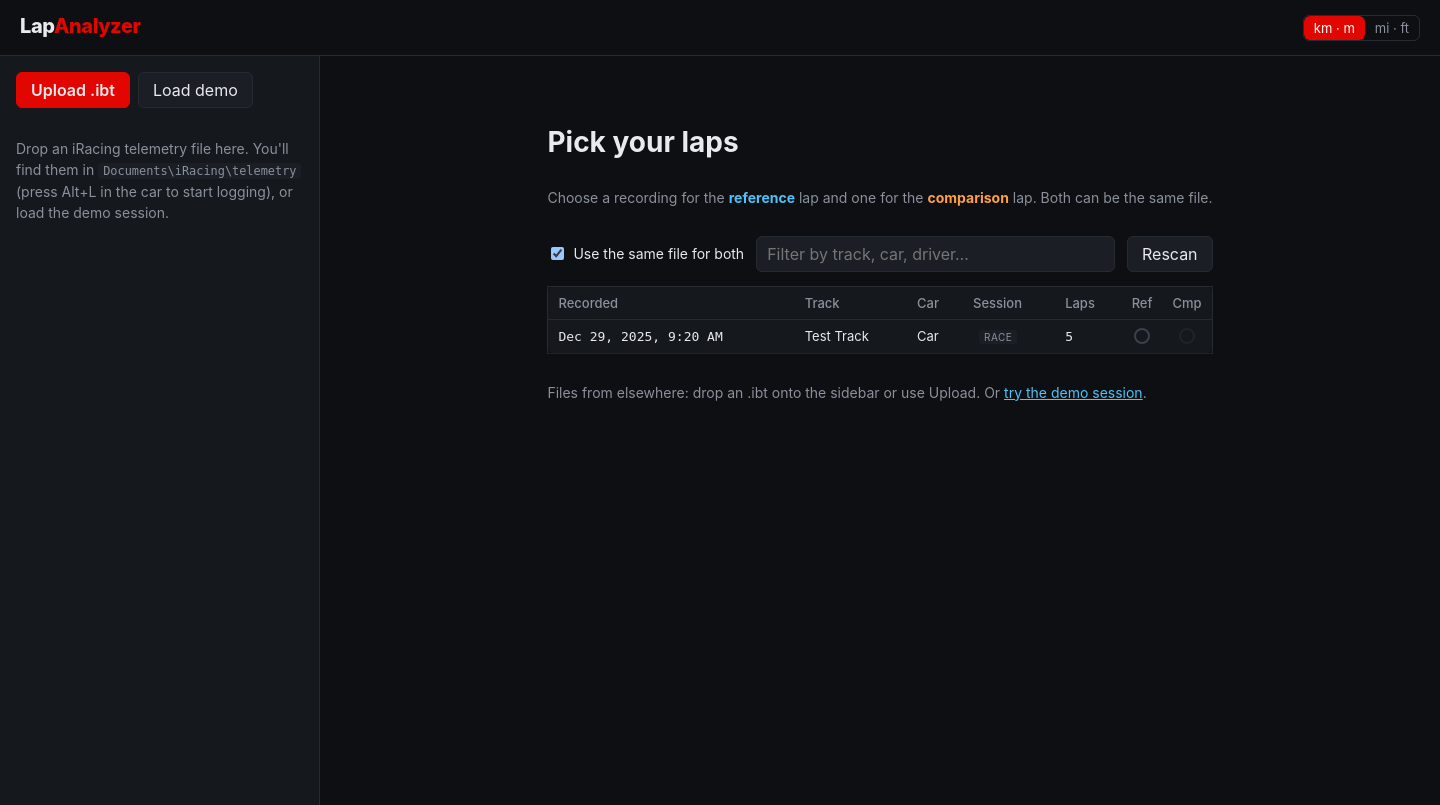
Test case: loads a telemetry file from the folder for both sides and shows the analysis
Click the button named "Use a.ibt as reference" at (1142, 336), box [1134,328,1150,344]
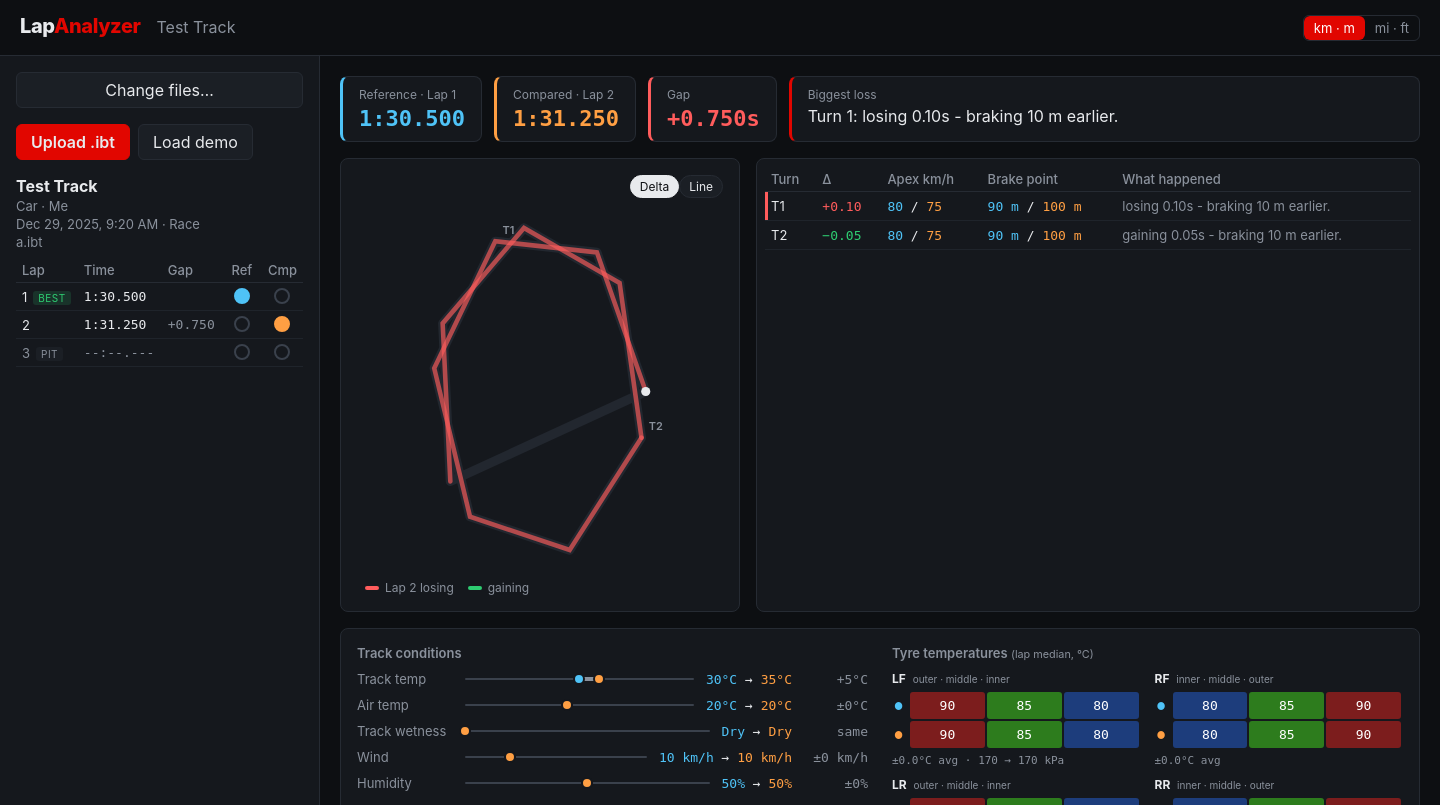
Now the text "Biggest loss" is shown, box [808,87,877,102]
Now the heading "Pick your laps" is gone
Click the button "Change files…" at (160, 90), box [16,72,303,108]
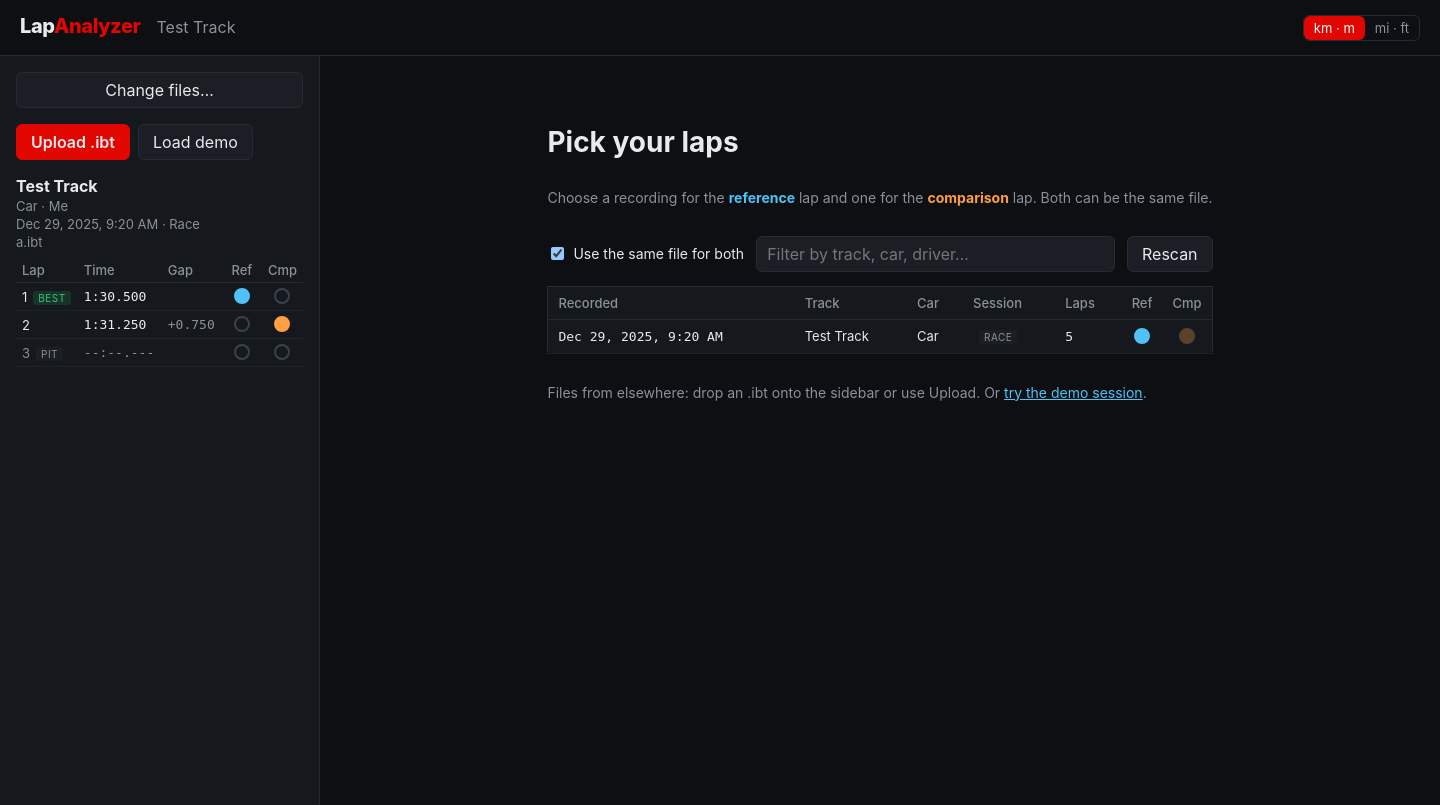
Now the heading "Pick your laps" is shown, box [547,125,739,159]
Click the button named "Use a.ibt as reference" at (1142, 336), box [1134,328,1150,344]
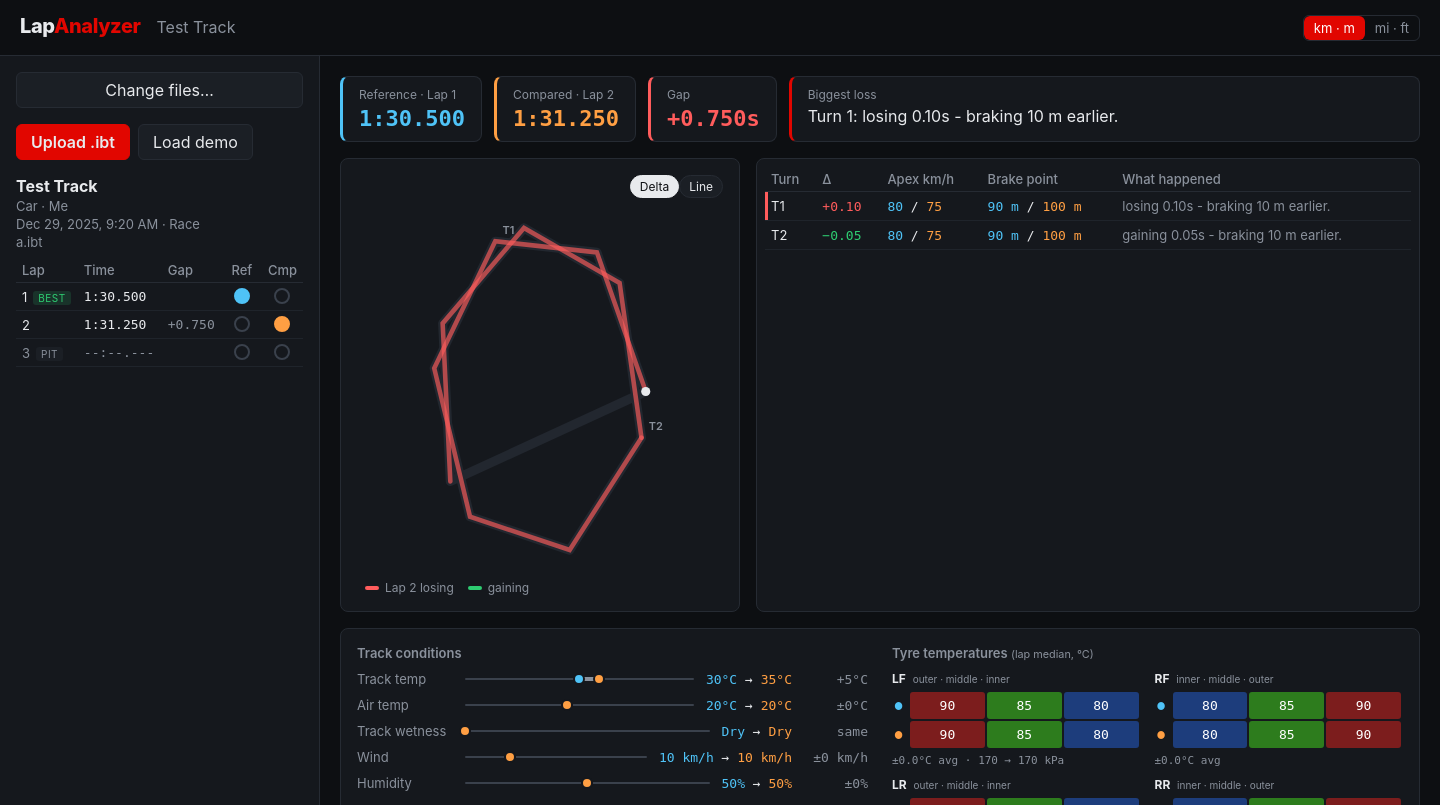
Now the heading "Pick your laps" is gone
